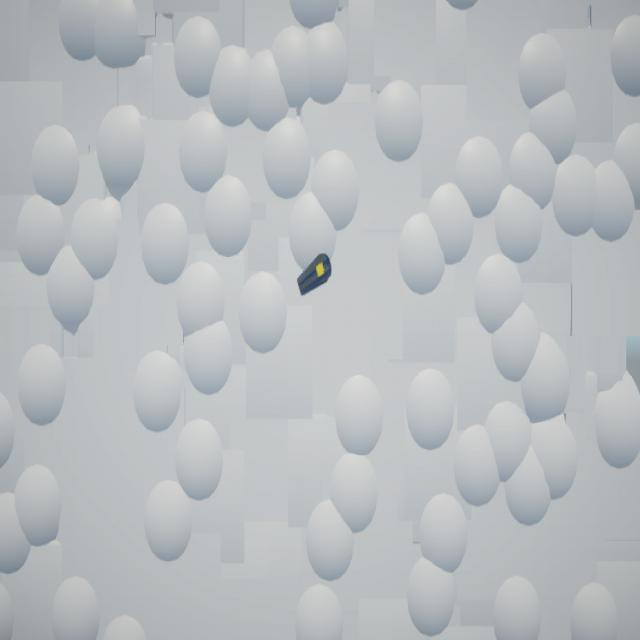handle_folk: (298, 254, 333, 298)
